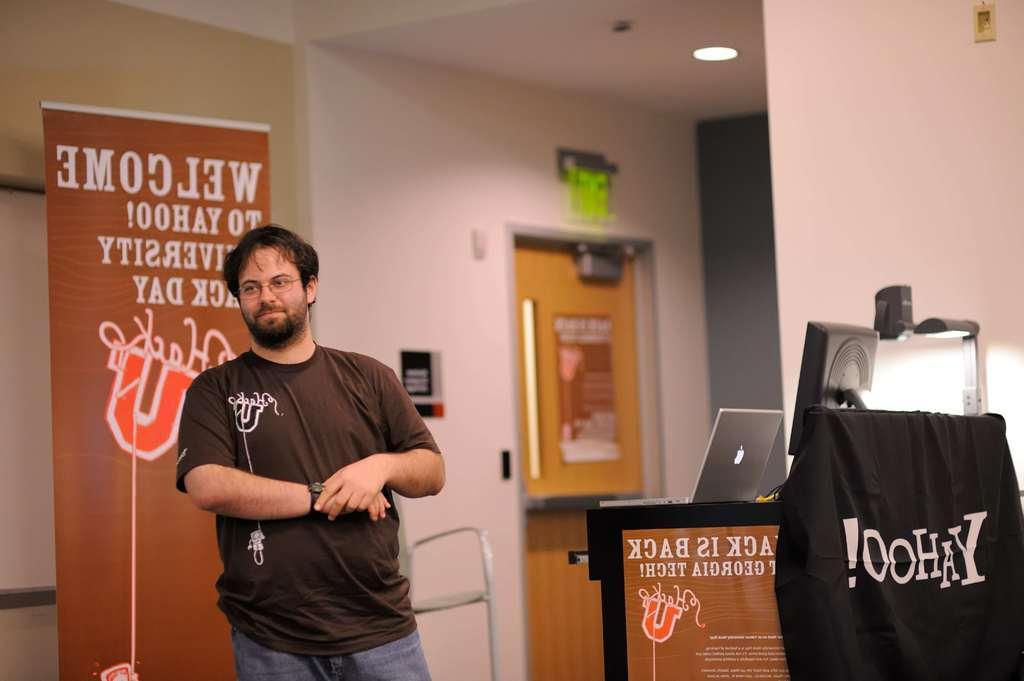door: (532, 272, 638, 681)
handle: (530, 488, 635, 516)
